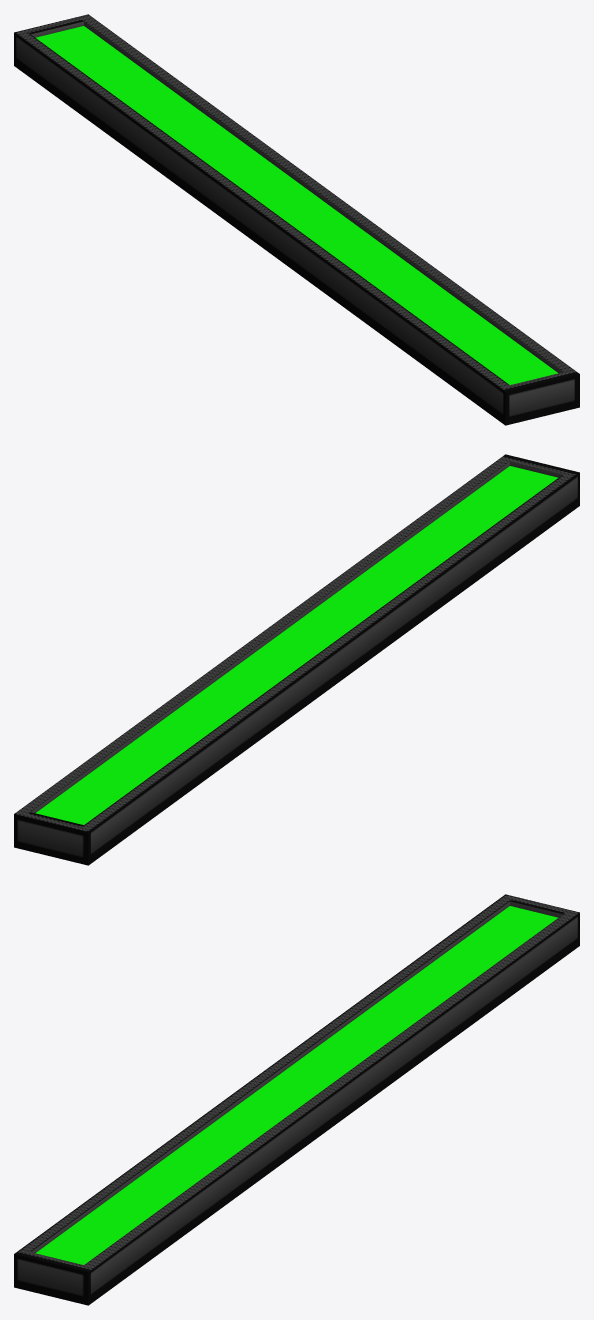
The model's file is carriage_health_indicator_1.fbx.
3 views of the same model, one above another, from view 1: azimuth 30°, elevation 25°; view 2: azimuth 150°, elevation 25°; view 3: azimuth 330°, elevation 25° (orthographic).
Parts seen in each view (by area): view 1: healthIndicator_base, healthIndicator_indicator; view 2: healthIndicator_base, healthIndicator_indicator; view 3: healthIndicator_base, healthIndicator_indicator.
Part boxes in pixels (<box>): healthIndicator_base: <box>14,14,579,425</box>; healthIndicator_indicator: <box>35,26,557,384</box>; healthIndicator_base: <box>14,454,579,865</box>; healthIndicator_indicator: <box>36,466,558,824</box>; healthIndicator_base: <box>14,894,579,1305</box>; healthIndicator_indicator: <box>36,906,558,1264</box>.
Size of the model in its own units: 35 by 15 by 400.
